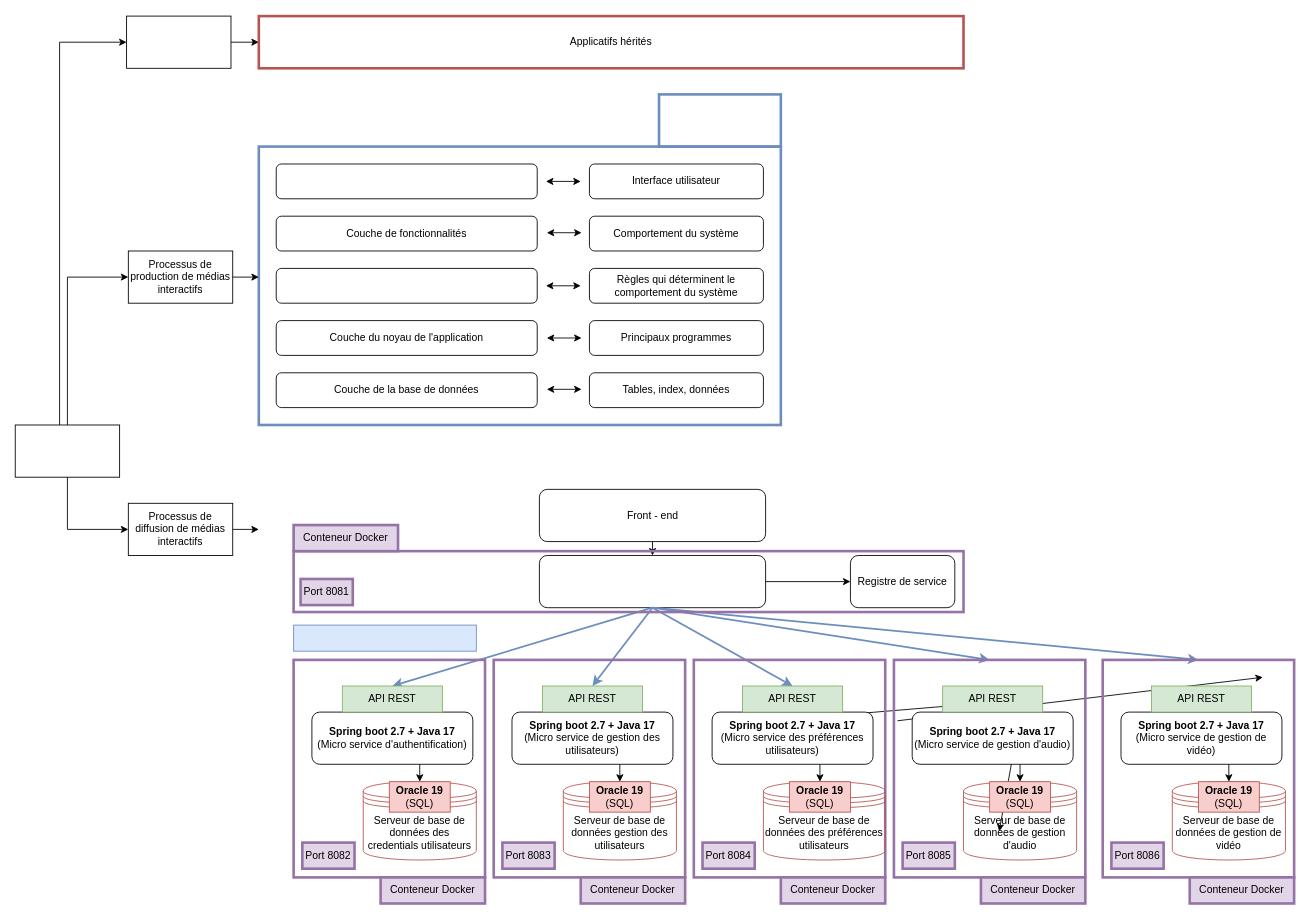
This 1310x920 diagram has some shape labels left out. The centre of each missing label's shape, as x and y in pixels:
API passerelle: the point at 652,581
Applicatif d' édition: the point at 719,120
Communication JSON/ HTTPS: the point at 384,637
Couche d'interaction avec le créateur de contenu: the point at 406,181
Couche des règles de gestion: the point at 406,285
Gibberish: the point at 67,450
Processus hérités: the point at 178,41
